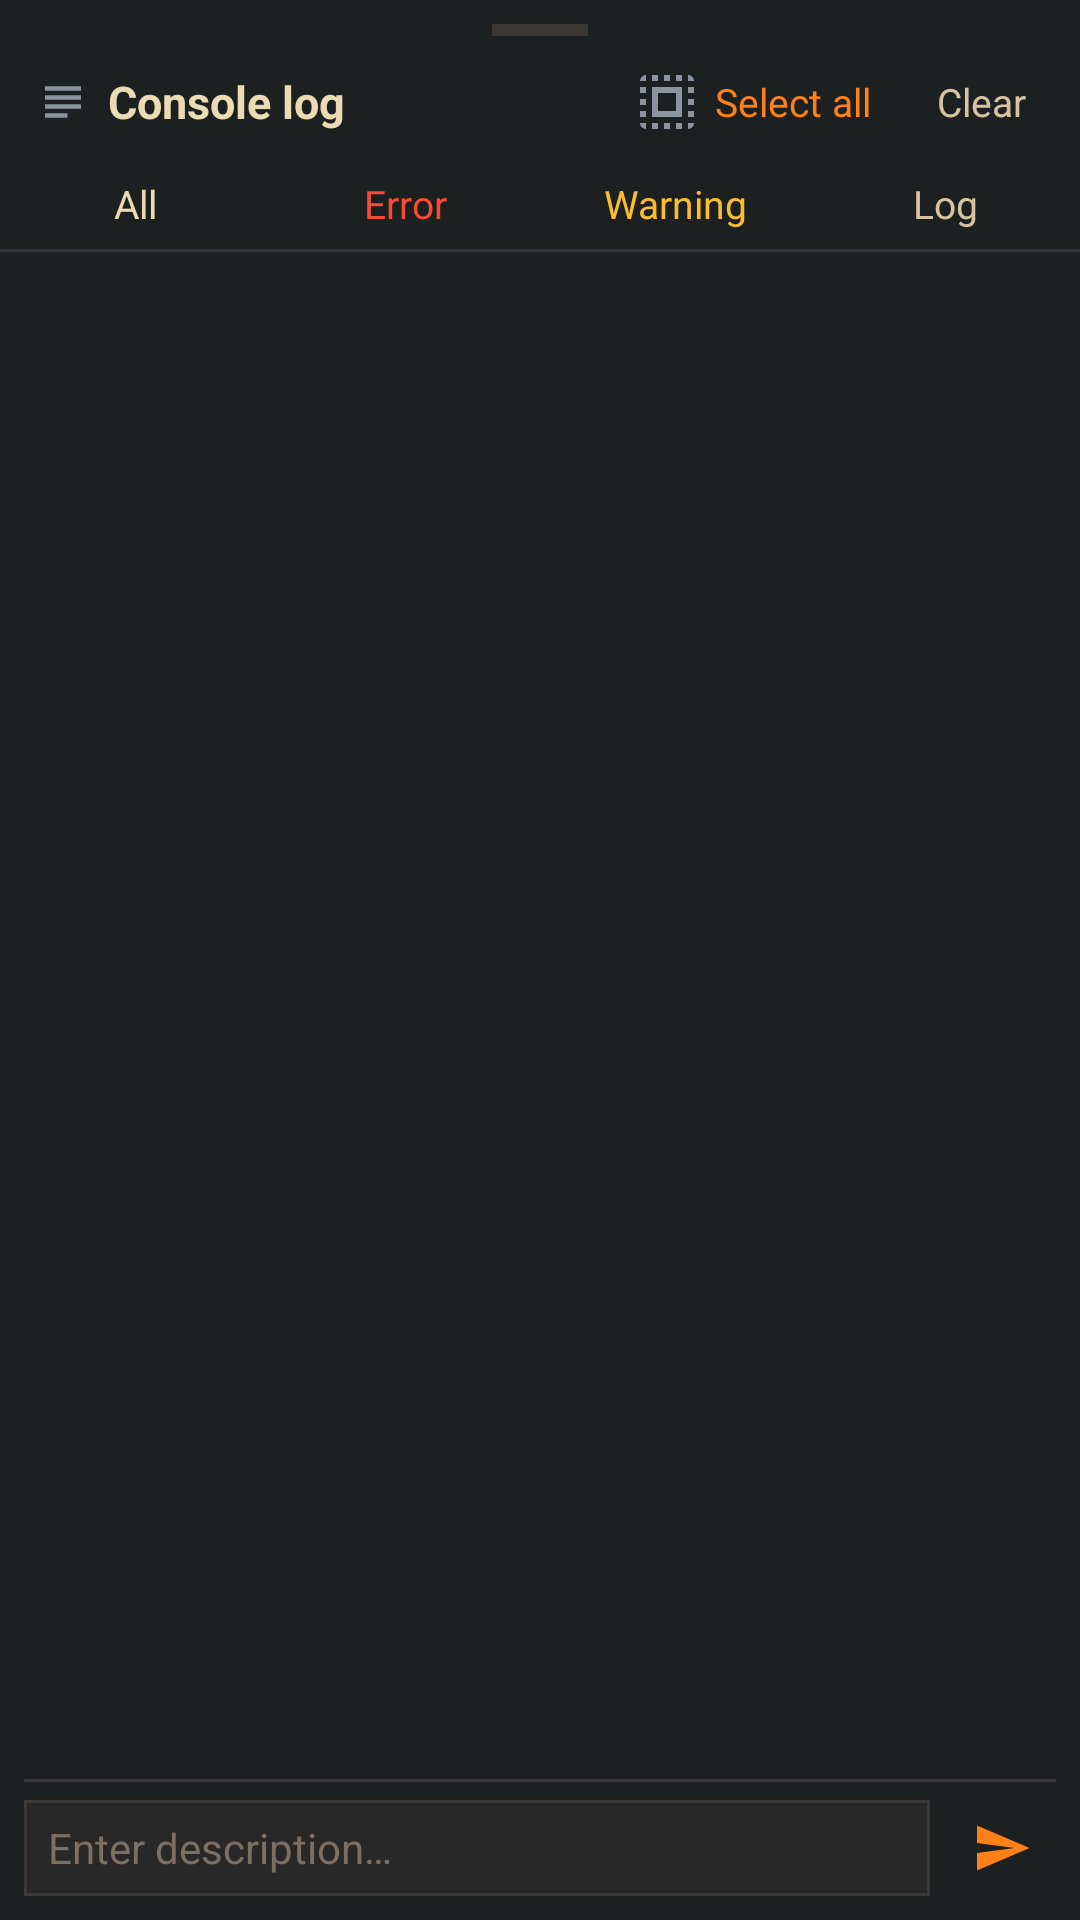

Locate icon controls on the screen. Image size 1080w x 1920h, boxes as {"x1": x1, "y1": y1, "x2": x2, "y2": y2}.
browser log: {"x1": 45, "y1": 86, "x2": 81, "y2": 118}
Send to session: {"x1": 977, "y1": 1825, "x2": 1029, "y2": 1871}
